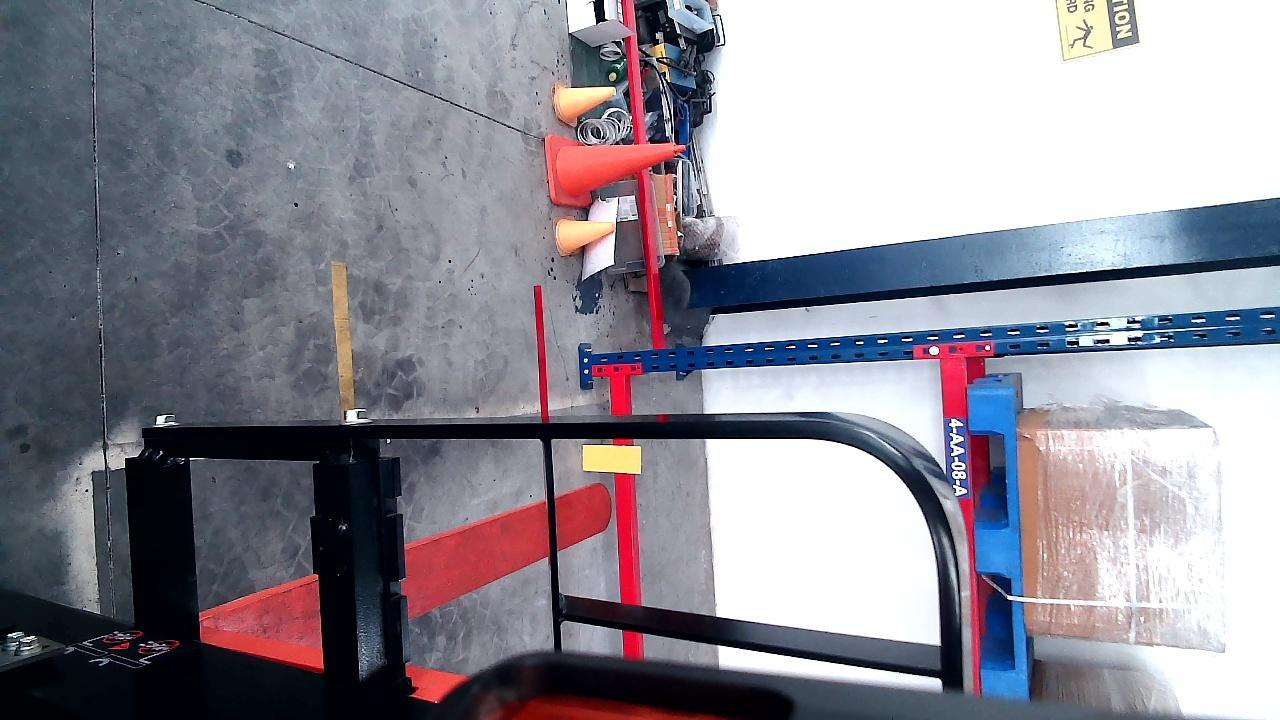red_line: (533, 288, 550, 411)
yellow_line: (329, 263, 354, 410)
